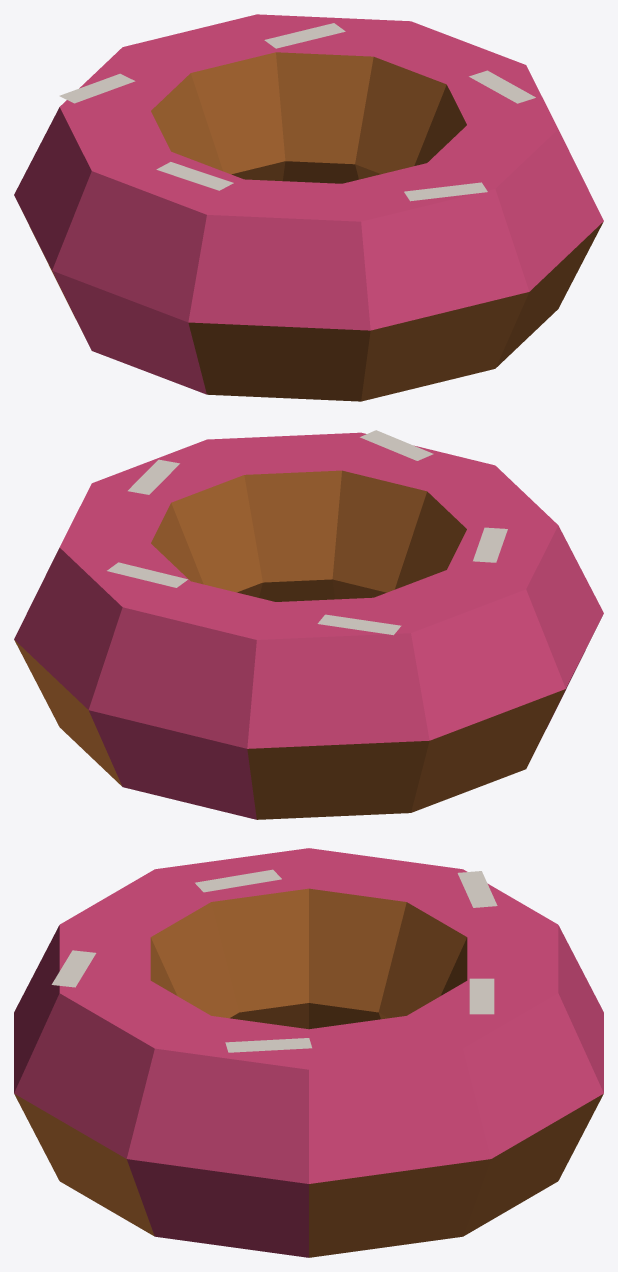
Rendered from donut-a82577.glb.
3 views of the same model, one above another, from view 1: azimuth 30°, elevation 25°; view 2: azimuth 150°, elevation 25°; view 3: azimuth 270°, elevation 25° (orthographic). The views are drawn at different scales.
Visible parts, largest first — view 1: donut; view 2: donut; view 3: donut.
Part boxes in pixels (x1,y1,x2,y2): donut: (14, 14, 603, 401); donut: (14, 430, 603, 819); donut: (14, 848, 603, 1257).
Size of the model in its own units: 0.11 by 0.0373 by 0.1046.
